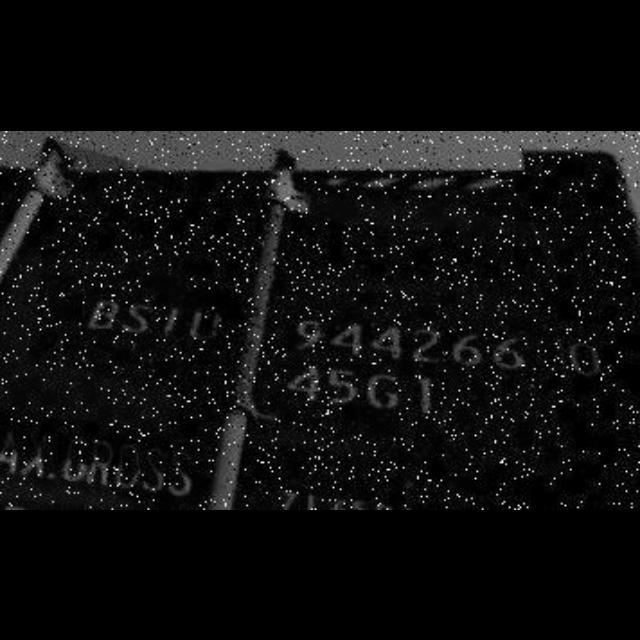0: (566, 332, 604, 384)
1: (408, 373, 442, 421)
2: (407, 321, 445, 372)
4: (283, 356, 327, 414), (329, 312, 369, 362), (370, 318, 406, 364)
5: (326, 360, 360, 416)
6: (450, 324, 488, 374), (492, 328, 526, 378)
9: (291, 311, 325, 357)
b: (86, 291, 120, 335)
g: (363, 365, 403, 413)
i: (157, 300, 186, 342)
s: (120, 294, 154, 340)
u: (186, 303, 224, 351)
